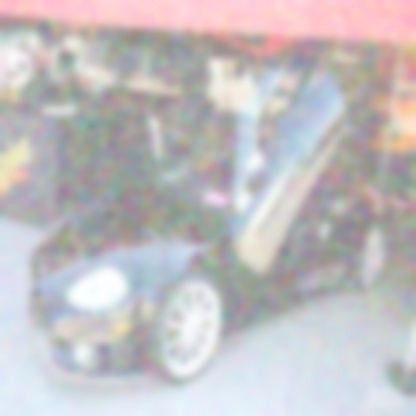Vehicle: (26, 34, 388, 384)
